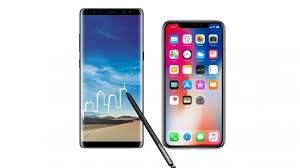iphone: (78, 5, 145, 148), (160, 16, 225, 148)
iphone10: (78, 6, 145, 149), (161, 17, 226, 149)
